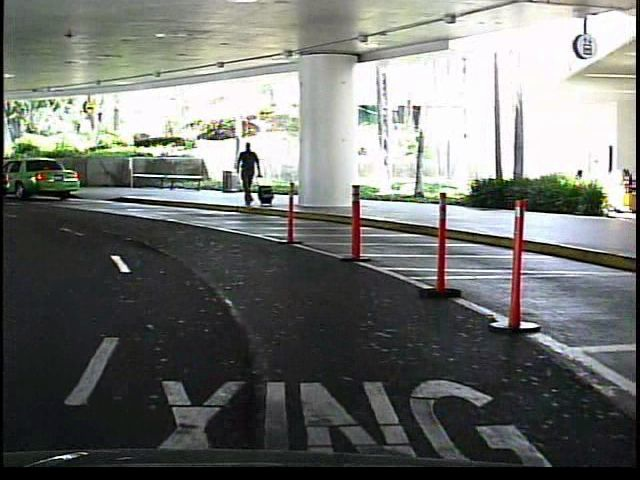person: (234, 137, 265, 211)
